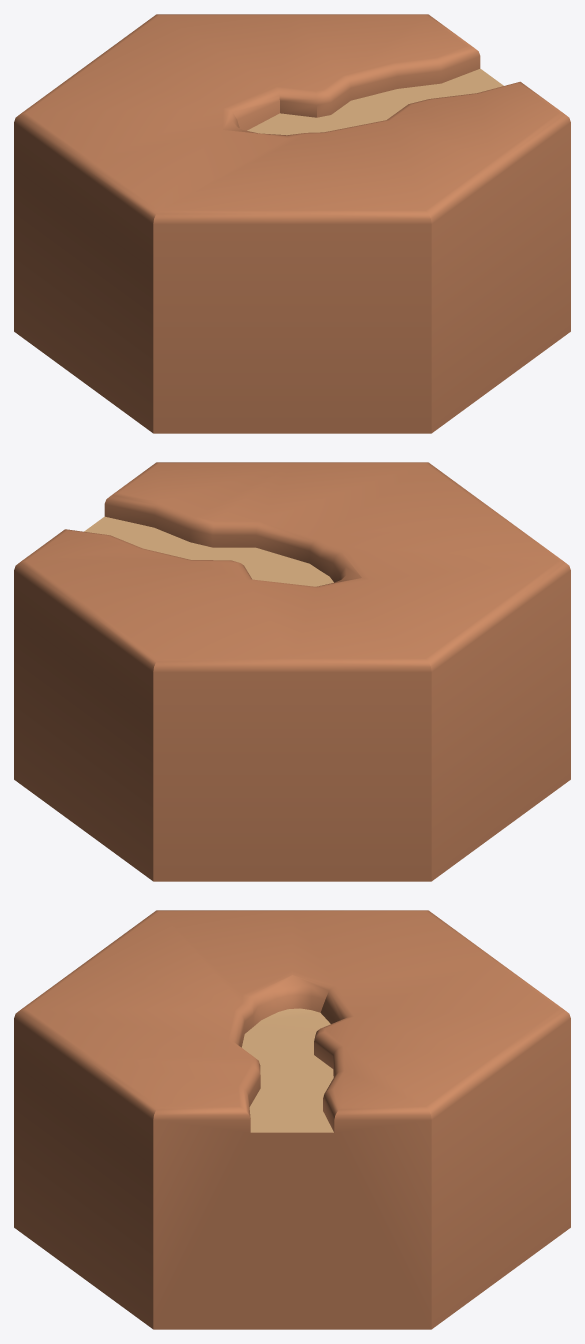
The model's file is hex_rock_roadA.glb.
3 renders of one model, top to bottom at view 1: azimuth 30°, elevation 25°; view 2: azimuth 150°, elevation 25°; view 3: azimuth 270°, elevation 25°, orthographic.
Visible parts, largest first — view 1: hex_rock_roadA; view 2: hex_rock_roadA; view 3: hex_rock_roadA.
Part boxes in pixels (left/top/right/bottom): hex_rock_roadA: left=14, top=14, right=570, bottom=433; hex_rock_roadA: left=14, top=462, right=570, bottom=881; hex_rock_roadA: left=14, top=910, right=570, bottom=1329.
Size of the model in its own units: 2.4 by 1.2 by 2.77.
